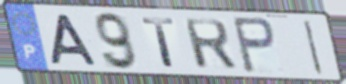9: (92, 11, 140, 71)
A: (49, 12, 101, 68)
I: (302, 18, 326, 76)
P: (230, 15, 278, 75)
R: (181, 17, 240, 72)
T: (139, 16, 179, 69)
